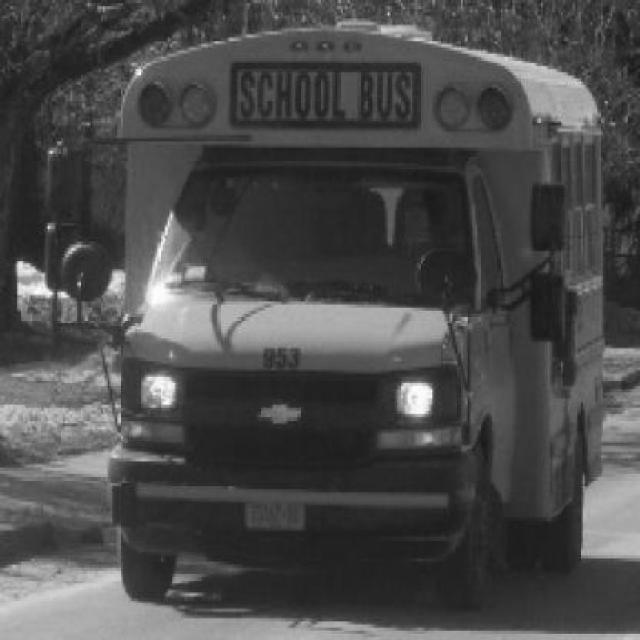Bus- Small: (42, 21, 606, 614)
